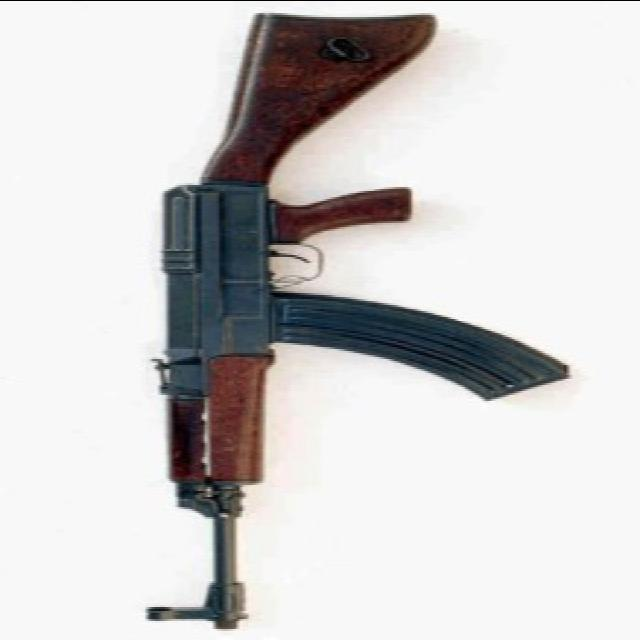rifle: (132, 3, 566, 637)
